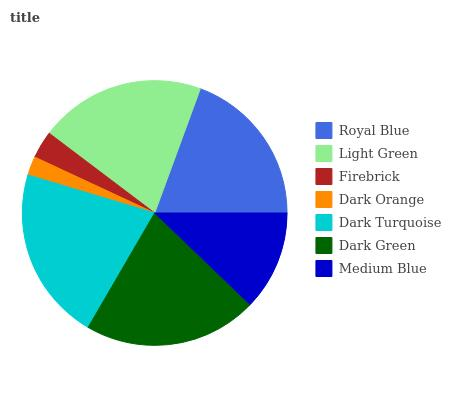legend: (296, 107, 451, 287)
sector: (86, 213, 250, 347), (21, 176, 158, 328), (51, 79, 203, 213), (152, 86, 287, 212), (154, 212, 286, 304), (35, 133, 155, 212), (27, 158, 154, 213)
